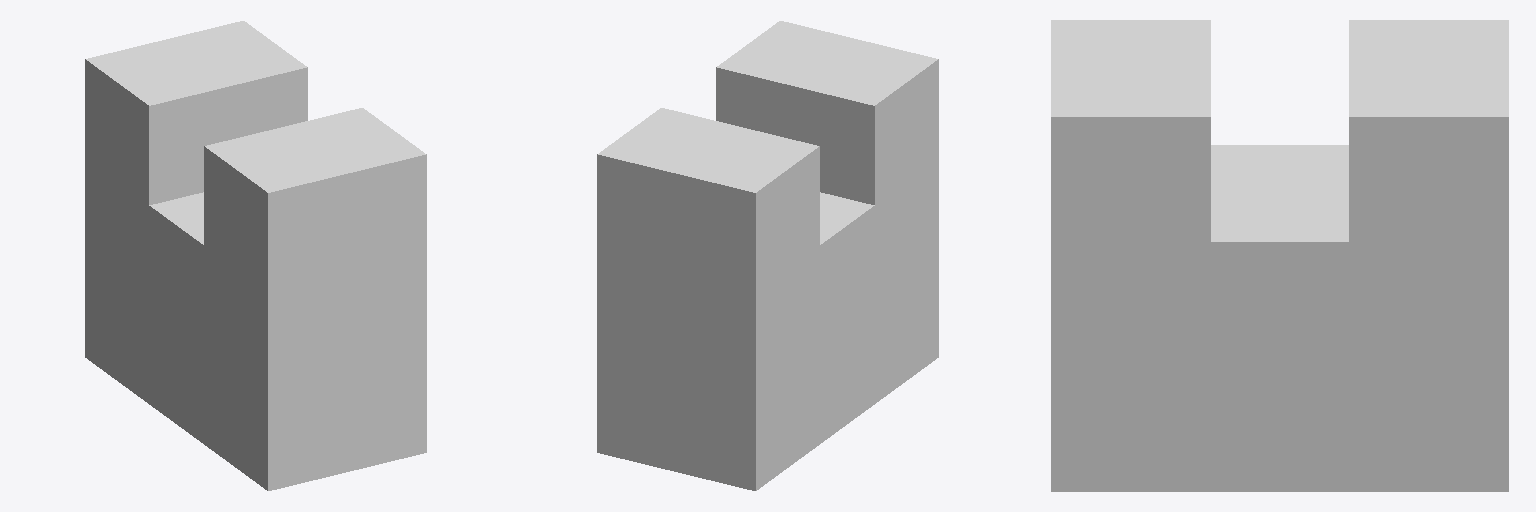
URDF robot description (small_square_bottom):
<?xml version="1.0"?>
<robot name="small_square_bottom">
    <link name="small_square_bottom">
        <visual>
            <origin xyz="0 1.1102230246251565404e-16 0.98000000000000020428" rpy="0 -0 0" />
            <geometry>
            <mesh filename="separate_wall_shapes_small/wall_pieces/small_square_bottom.obj"/>
            </geometry>
            <material name="small_square_bottom_material">
            <color rgba="0.91764705882352937127 0.91764705882352937127 0.91764705882352937127 1.0"/>
            </material>
        </visual>
        <collision>
            <origin xyz="0 1.1102230246251565404e-16 0.98000000000000020428" rpy="0 -0 0" />
            <geometry>
            <mesh filename="separate_wall_shapes_small/wall_pieces/small_square_bottom.obj"/>
            </geometry>
        </collision>
        <inertial>
            <origin xyz="0 0 0" rpy="0 0 0"/>
            <mass value="100" />
            <inertia ixx="0" ixy="0"  ixz="0" iyy="0" iyz="0" izz="0" />
        </inertial>
    </link>


</robot>

--- Render facts (derived) ---
3 views of the same robot in one strip: view 1: azimuth 30°, elevation 25°; view 2: azimuth 150°, elevation 25°; view 3: azimuth 270°, elevation 25° (orthographic).
Model small_square_bottom with 1 links and 0 joints (none), rooted at small_square_bottom, posed all joints at 0.
Links seen in each view (by area): view 1: small_square_bottom; view 2: small_square_bottom; view 3: small_square_bottom.
Boxes of the visible links, x1=… form: small_square_bottom: x1=85, y1=21, x2=426, y2=490; small_square_bottom: x1=597, y1=21, x2=938, y2=490; small_square_bottom: x1=1051, y1=20, x2=1508, y2=491.
Size in the robot's own frame: 0.25 by 0.5 by 0.45 metres.
1 mesh visuals loaded from 1 distinct referenced files (1 OBJ).